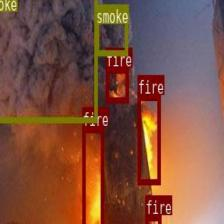fire: (137, 94, 160, 184), (82, 126, 103, 224), (105, 67, 128, 101), (144, 214, 160, 224)
smoke: (0, 0, 97, 121), (96, 3, 128, 55)
